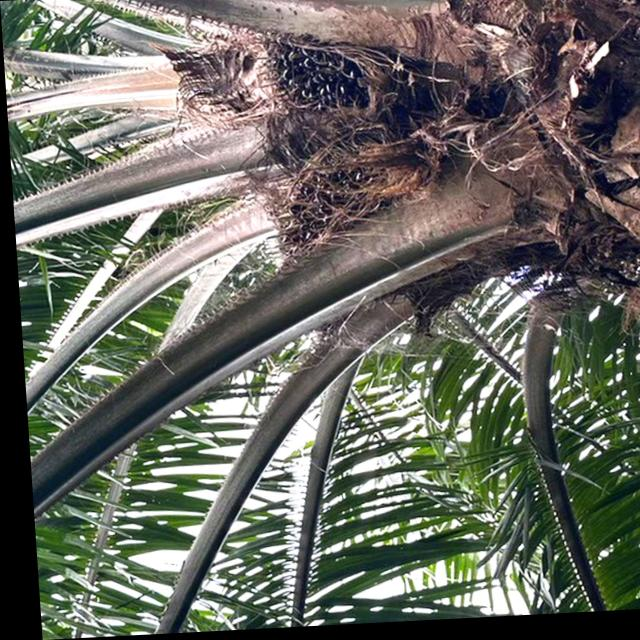ripe: (258, 137, 424, 260), (253, 39, 380, 114)
